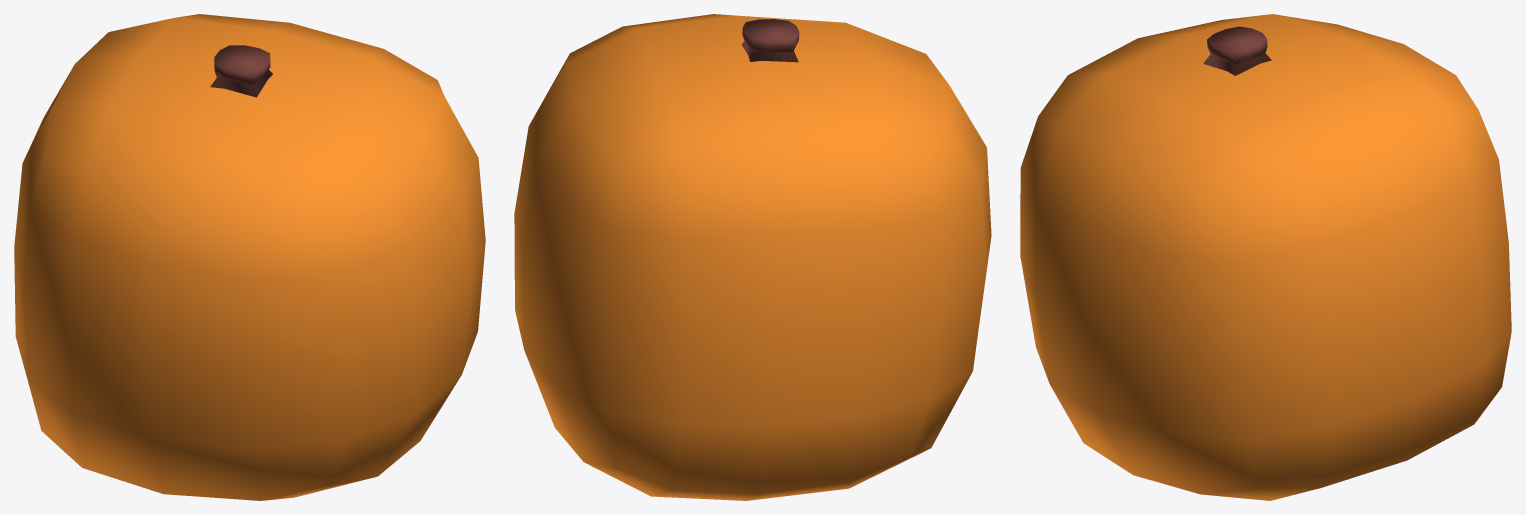
Rendered from Orange.fbx.
3 renders of one model, left to right at view 1: azimuth 30°, elevation 25°; view 2: azimuth 150°, elevation 25°; view 3: azimuth 270°, elevation 25°, orthographic.
Parts seen in each view (by area): view 1: Cube.007; view 2: Cube.007; view 3: Cube.007.
Part boxes in pixels (<box>): Cube.007: <box>14,14,485,500</box>; Cube.007: <box>514,14,991,500</box>; Cube.007: <box>1020,14,1511,500</box>.
Size of the model in its own units: 519 by 484 by 528.
